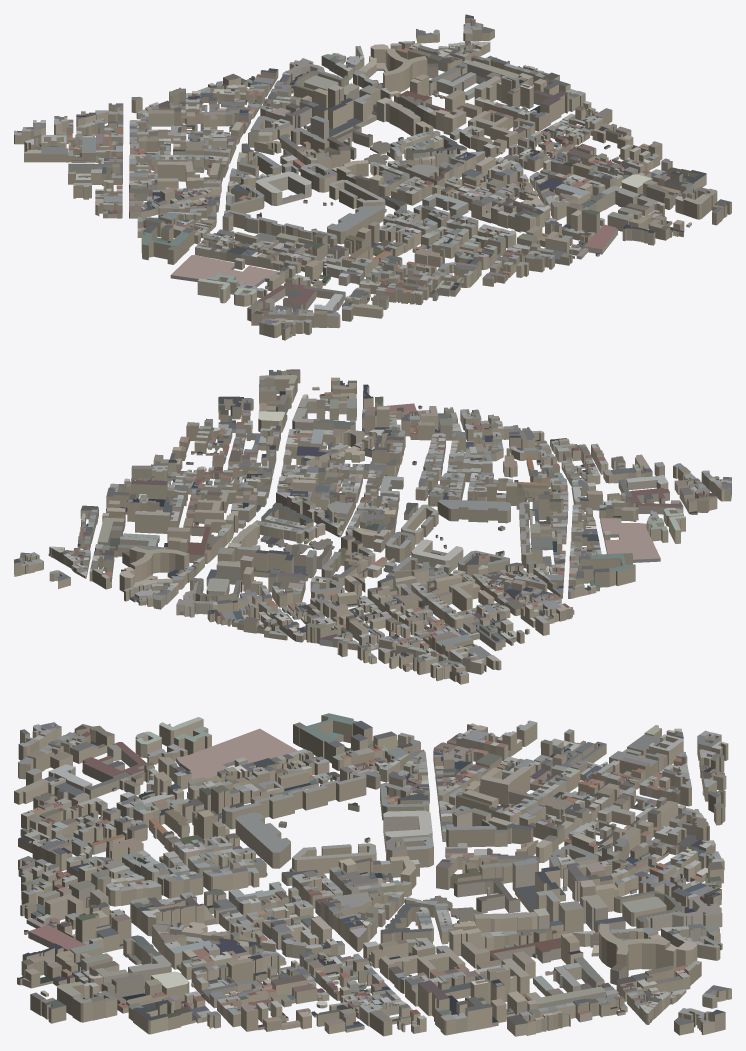
The picture shows the model from 3 angles, top to bottom: view 1: azimuth 30°, elevation 25°; view 2: azimuth 150°, elevation 25°; view 3: azimuth 270°, elevation 25°; orthographic projection. The views are drawn at different scales.
Parts seen in each view (by area): view 1: tuile; view 2: tuile; view 3: tuile.
Part boxes in pixels (x1,y1,x2,y2): tuile: (14,14,731,340); tuile: (14,369,731,684); tuile: (14,713,731,1036).
Bounding box in the file's own units: 1053 × 60.66 × 1033.
